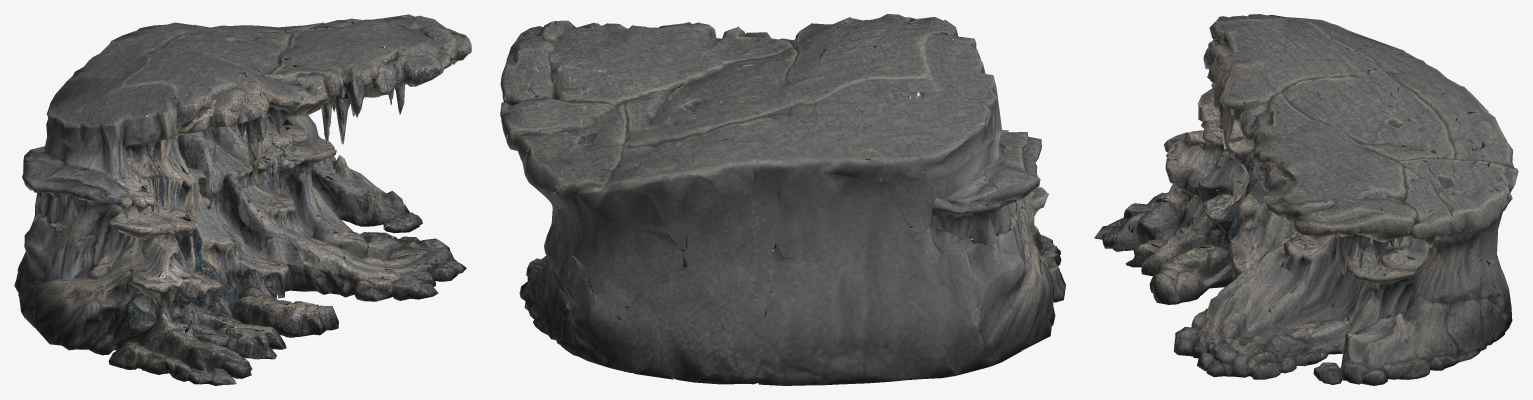
The model's file is cavern-buttress.glb.
3 views of the same model, side by side, from view 1: azimuth 30°, elevation 25°; view 2: azimuth 150°, elevation 25°; view 3: azimuth 270°, elevation 25° (orthographic). The views are drawn at different scales.
Visible parts, largest first — view 1: cavern-buttress_LOD0; view 2: cavern-buttress_LOD0; view 3: cavern-buttress_LOD0.
Part boxes in pixels (x1,y1,x2,y2): cavern-buttress_LOD0: [14, 14, 471, 385]; cavern-buttress_LOD0: [500, 14, 1065, 385]; cavern-buttress_LOD0: [1094, 14, 1518, 385].
Size of what is drawn, in the model's own units: 1.9 by 0.9531 by 1.6.
Materials: 1 (1 with a texture image).
